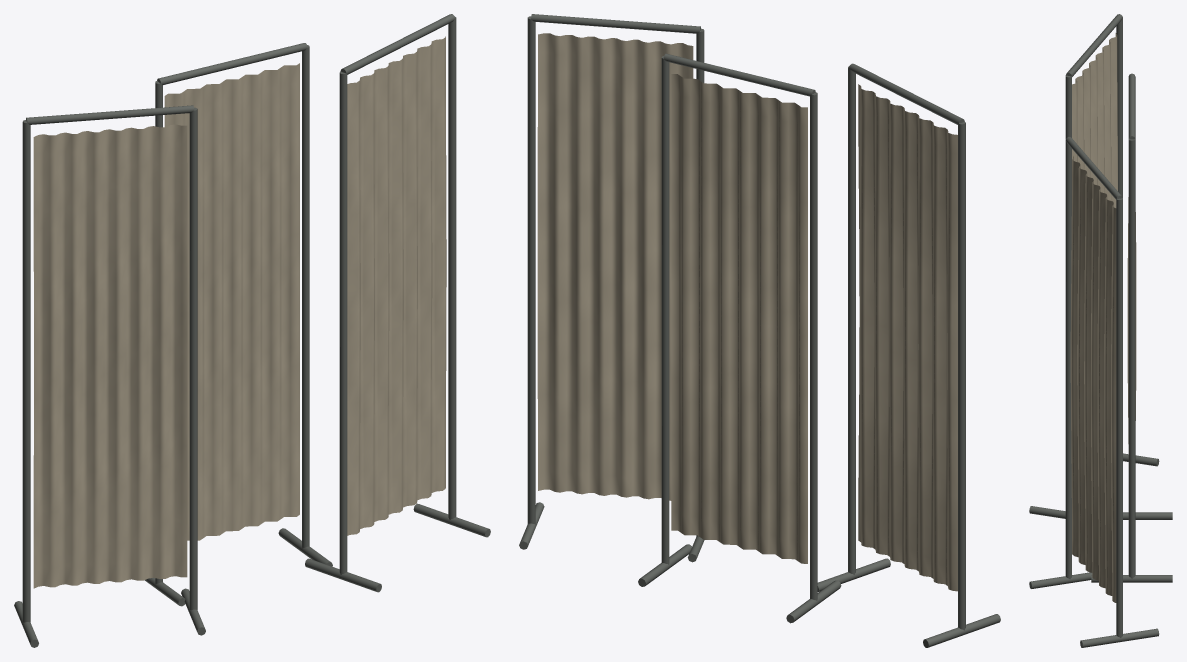
File: prop-folding-screen-v01.glb
3 renders of one model, left to right at view 1: azimuth 30°, elevation 25°; view 2: azimuth 150°, elevation 25°; view 3: azimuth 270°, elevation 25°, orthographic. The views are drawn at different scales.
Parts seen in each view (by area): view 1: folding-screen; view 2: folding-screen; view 3: folding-screen.
Part boxes in pixels (left/top/right/bottom): folding-screen: left=14, top=14, right=490, bottom=647; folding-screen: left=519, top=14, right=1000, bottom=647; folding-screen: left=1029, top=14, right=1172, bottom=647.
Size of the model in its own units: 1.6 by 1.7 by 0.4938.
